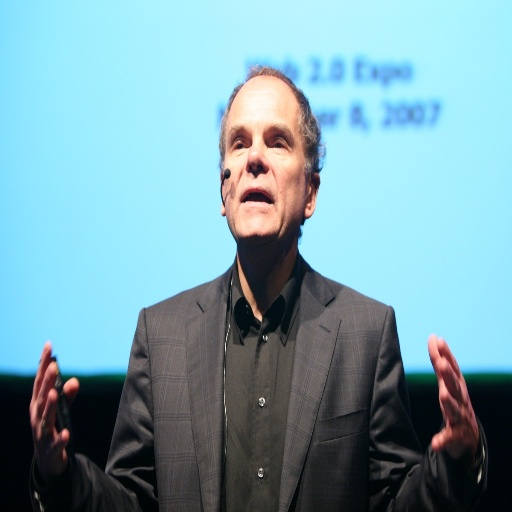hand: (428, 334, 488, 495), (28, 340, 80, 482)
